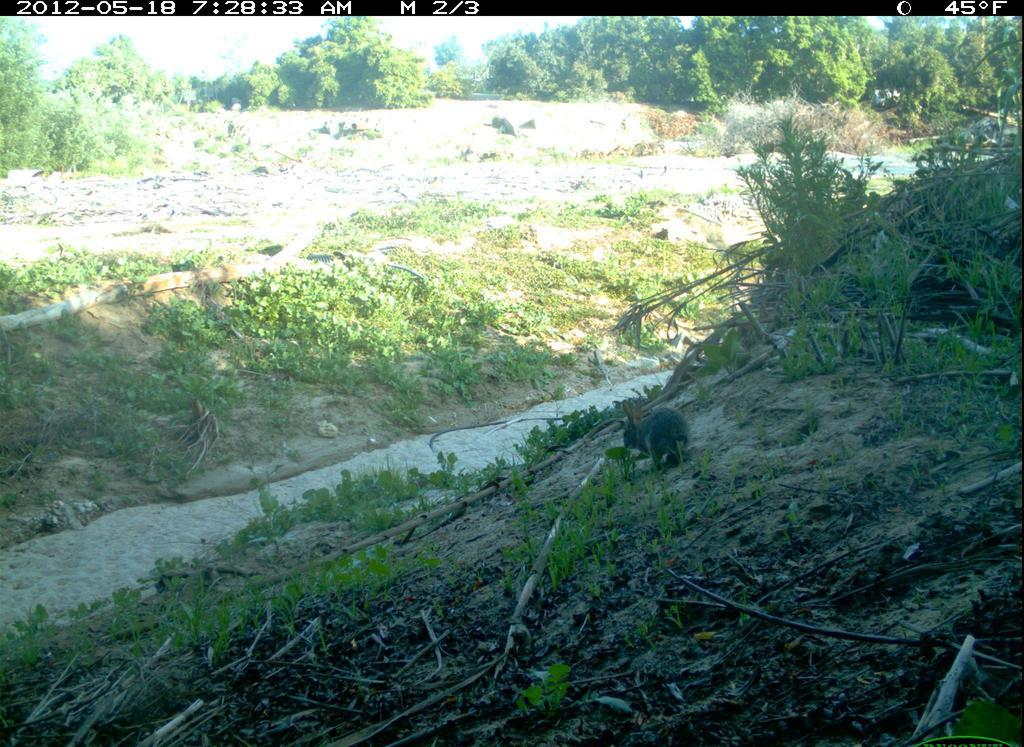rabbit: (606, 392, 701, 484)
